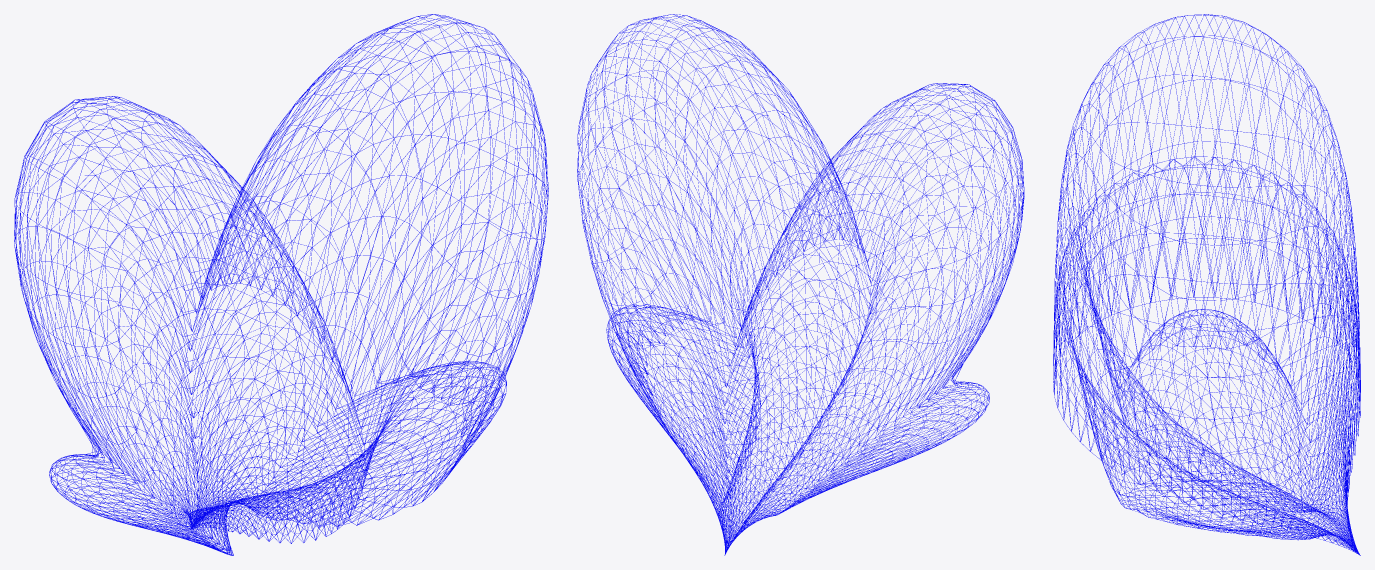
File: Form4.glb
The picture shows the model from 3 angles, left to right: view 1: azimuth 30°, elevation 25°; view 2: azimuth 150°, elevation 25°; view 3: azimuth 270°, elevation 25°; orthographic projection. The views are drawn at different scales.
Size of the model in its own units: 2.99 by 3.15 by 1.89.
